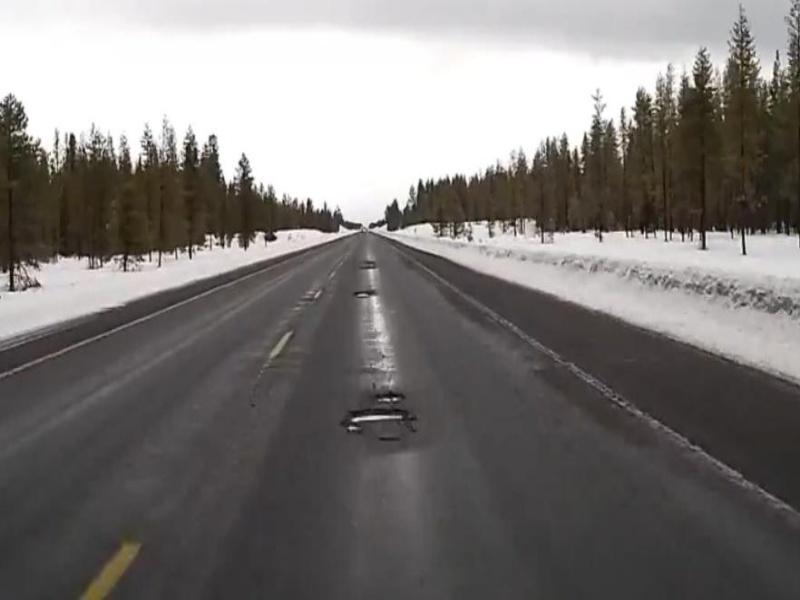pothole: (343, 388, 410, 439)
